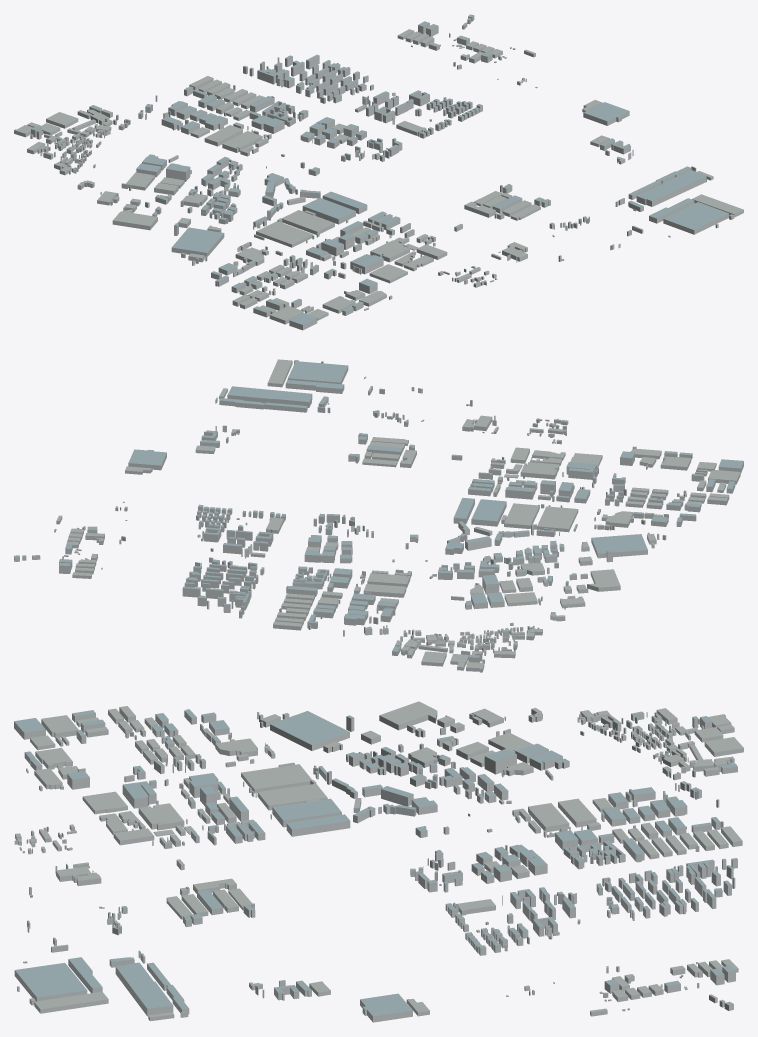
The model's file is far.glb.
3 views of the same model, one above another, from view 1: azimuth 30°, elevation 25°; view 2: azimuth 150°, elevation 25°; view 3: azimuth 270°, elevation 25° (orthographic). The views are drawn at different scales.
Bounding box in the file's own units: 2171 × 42.86 × 2120.
